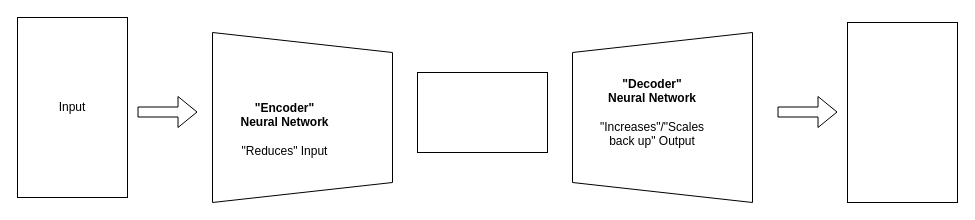
Image size: 975x220. Some labels were removed from this diagram. The shapes that lost their labels are listed below. From the top down, each one's centre as x and y in pixels, then its label:
(x=482, y=112): Dimensionality Reduced "Latent Space"
(x=902, y=112): Output
